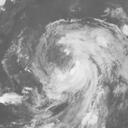cyclone: (32, 17, 117, 99)
